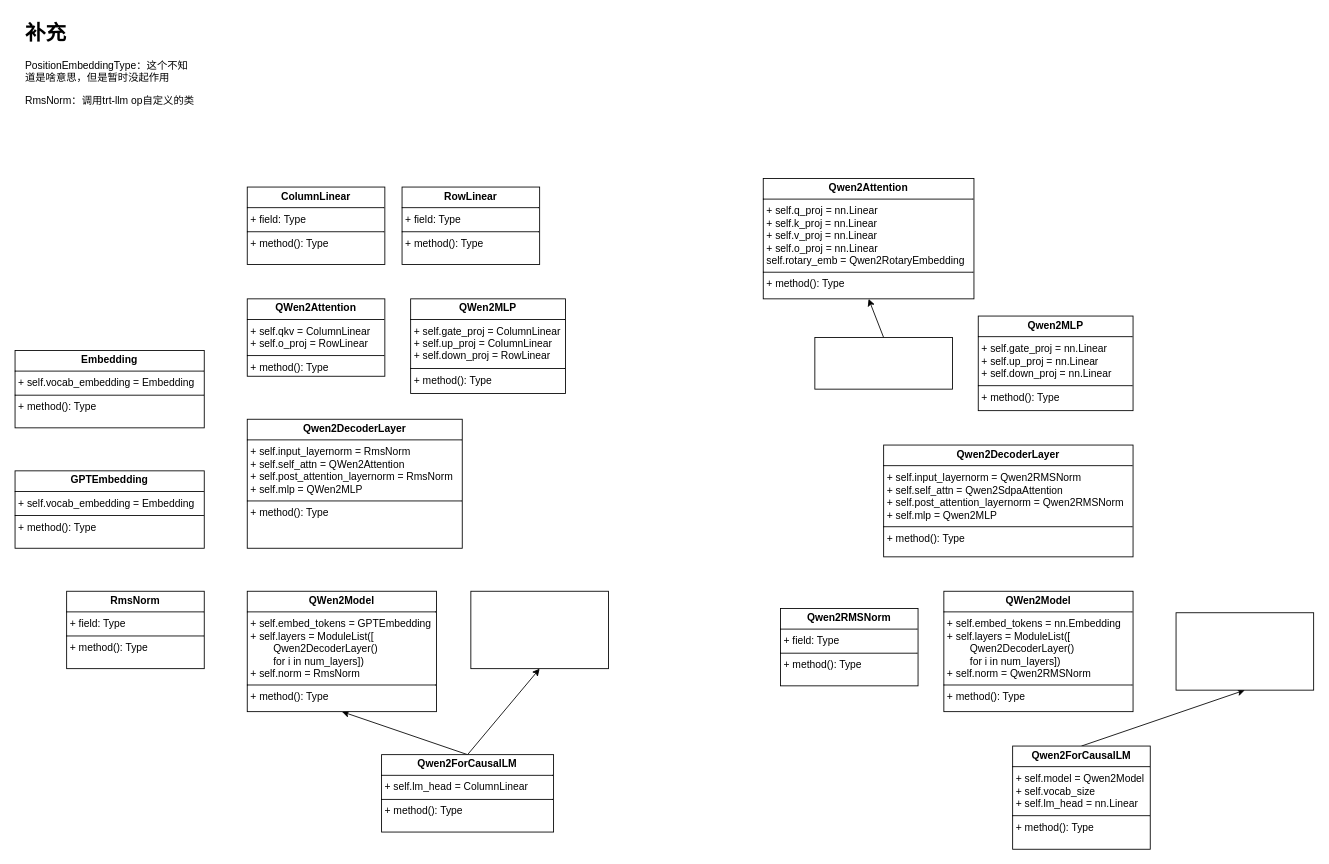
Some shapes in this 1329 by 864 pixel diagram are drawn without their labels. Each missing label, with the box of its shape:
GenerationMixin + field: Type + method(): Type: (470, 590, 608, 669)
Qwen2PreTrainedModel + field: Type + method(): Type: (1175, 612, 1314, 690)
Qwen2SdpaAttention + method(): Type: (814, 337, 952, 389)
